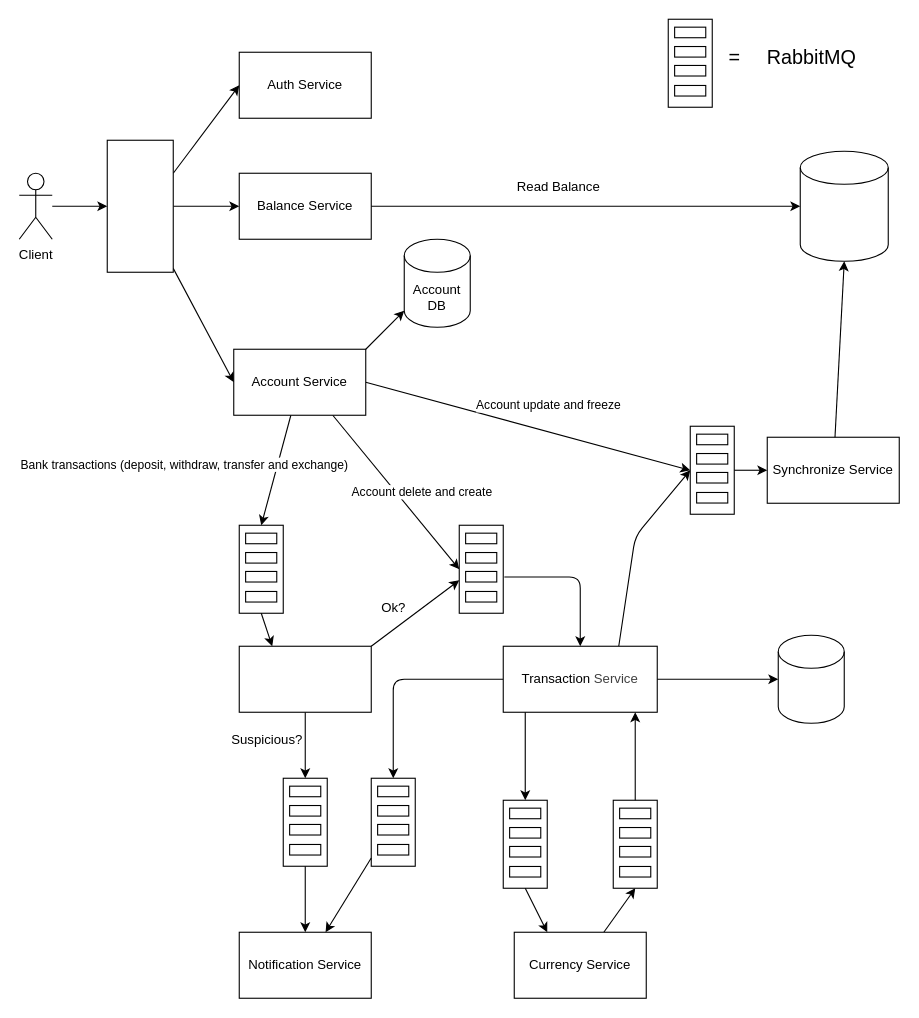
Image size: 919x1018. Some labels were removed from this diagram. The shapes that lost their labels are listed below. From the top down, each one's box as (x1, y1, x2, y2) in pixels, then its label:
(106, 139, 173, 272): API Gateway
(799, 150, 888, 261): Read Only DB (Document)
(238, 645, 371, 712): Fraud Service (AI)
(777, 634, 844, 723): Balance DB
